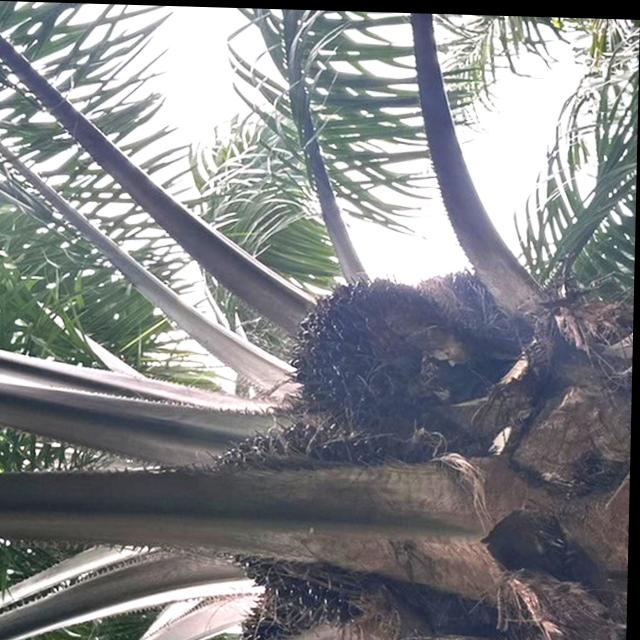unripe: (288, 265, 459, 428)
